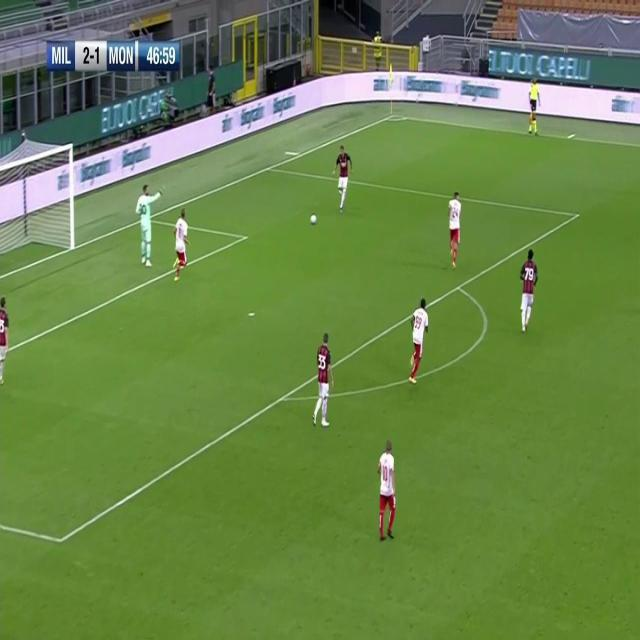ball: (309, 210, 318, 226)
player: (310, 331, 336, 429), (376, 437, 398, 543), (407, 295, 431, 385), (136, 180, 160, 266), (517, 246, 539, 335), (332, 142, 352, 214), (172, 207, 190, 285), (447, 188, 462, 271), (0, 294, 11, 388), (526, 76, 540, 137)
